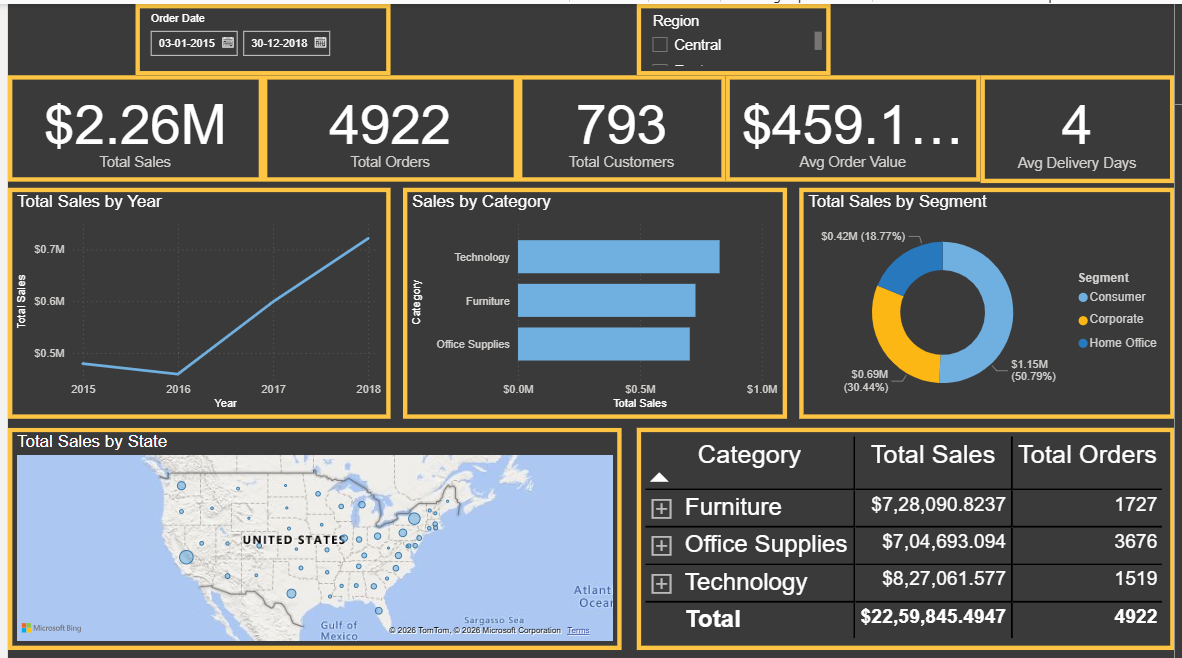

The dashboard page shown, as its layout file describes it:
{"tool":"powerbi","page":{"name":"Overview","canvas":[1280,720],"ordinal":0},"visuals":[{"type":"card","fields":{"Values":["Sales_Data.Total Sales"]},"box":[0,78.2,279.9,116.6],"z":0},{"type":"card","fields":{"Values":["Sales_Data.Total Orders"]},"box":[279.9,78.2,279.9,116.6],"z":1000},{"type":"card","fields":{"Values":["Sales_Data.Total Customers"]},"box":[559.9,78.2,227.8,116.6],"z":2000},{"type":"card","fields":{"Values":["Sales_Data.Avg Order Value"]},"box":[787.7,78.2,279.9,116.6],"z":3000},{"type":"clusteredBarChart","title":"Sales by Category","fields":{"Category":["Sales_Data.Category"],"Y":["Sales_Data.Total Sales"]},"box":[433.6,201.7,421.3,253.9],"z":4000},{"type":"lineChart","fields":{"Category":["Sales_Data.Order Date.Variation.Date Hierarchy.Year","Sales_Data.Order Date.Variation.Date Hierarchy.Quarter","Sales_Data.Order Date.Variation.Date Hierarchy.Month","Sales_Data.Order Date.Variation.Date Hierarchy.Day"],"Y":["Sales_Data.Total Sales"]},"box":[0,201.7,419.9,253.9],"z":5000},{"type":"donutChart","fields":{"Category":["Sales_Data.Segment"],"Y":["Sales_Data.Total Sales"]},"box":[868.6,201.7,411.7,253.9],"z":6000},{"type":"slicer","title":"Order Date","fields":{"Values":["Sales_Data.Order Date"]},"box":[0,0,279.9,78.2],"z":7000},{"type":"slicer","fields":{"Values":["Sales_Data.Region"]},"box":[1067.6,0,212.7,78.2],"z":8000},{"type":"map","fields":{"Category":["Sales_Data.State"],"Size":["Sales_Data.Total Sales"]},"box":[0,465.2,673.8,244.3],"z":9000},{"type":"card","fields":{"Values":["Sales_Data.Avg Delivery Days"]},"box":[1067.6,78.2,212.7,116.6],"z":10000},{"type":"pivotTable","fields":{"Rows":["Sales_Data.Category","Sales_Data.Sub-Category"],"Values":["Sales_Data.Total Sales","Sales_Data.Total Orders"]},"box":[690.2,465.2,590.1,244.3],"z":11000},{"type":"textbox","box":[292.3,0,763,68.6],"z":11001}]}

Visuals, with their boxes in screenshot pixels (x1, y1, x2, y2), scaled from the page's 1280x720 canvas onto the 1182x658 screenshot:
card - Sales_Data.Total Sales: {"left": 0, "top": 71, "right": 258, "bottom": 178}
card - Sales_Data.Total Orders: {"left": 258, "top": 71, "right": 517, "bottom": 178}
card - Sales_Data.Total Customers: {"left": 517, "top": 71, "right": 727, "bottom": 178}
card - Sales_Data.Avg Order Value: {"left": 727, "top": 71, "right": 986, "bottom": 178}
"Sales by Category" clusteredBarChart: {"left": 400, "top": 184, "right": 789, "bottom": 416}
lineChart - Sales_Data.Order Date.Variation.Date Hierarchy.Year x Sales_Data.Order Date.Variation.Date Hierarchy.Quarter: {"left": 0, "top": 184, "right": 388, "bottom": 416}
donutChart - Sales_Data.Segment x Sales_Data.Total Sales: {"left": 802, "top": 184, "right": 1181, "bottom": 416}
"Order Date" slicer: {"left": 0, "top": 0, "right": 258, "bottom": 71}
slicer - Sales_Data.Region: {"left": 986, "top": 0, "right": 1181, "bottom": 71}
map - Sales_Data.State x Sales_Data.Total Sales: {"left": 0, "top": 425, "right": 622, "bottom": 648}
card - Sales_Data.Avg Delivery Days: {"left": 986, "top": 71, "right": 1181, "bottom": 178}
pivotTable - Sales_Data.Category x Sales_Data.Sub-Category: {"left": 637, "top": 425, "right": 1181, "bottom": 648}
textbox: {"left": 270, "top": 0, "right": 975, "bottom": 63}
